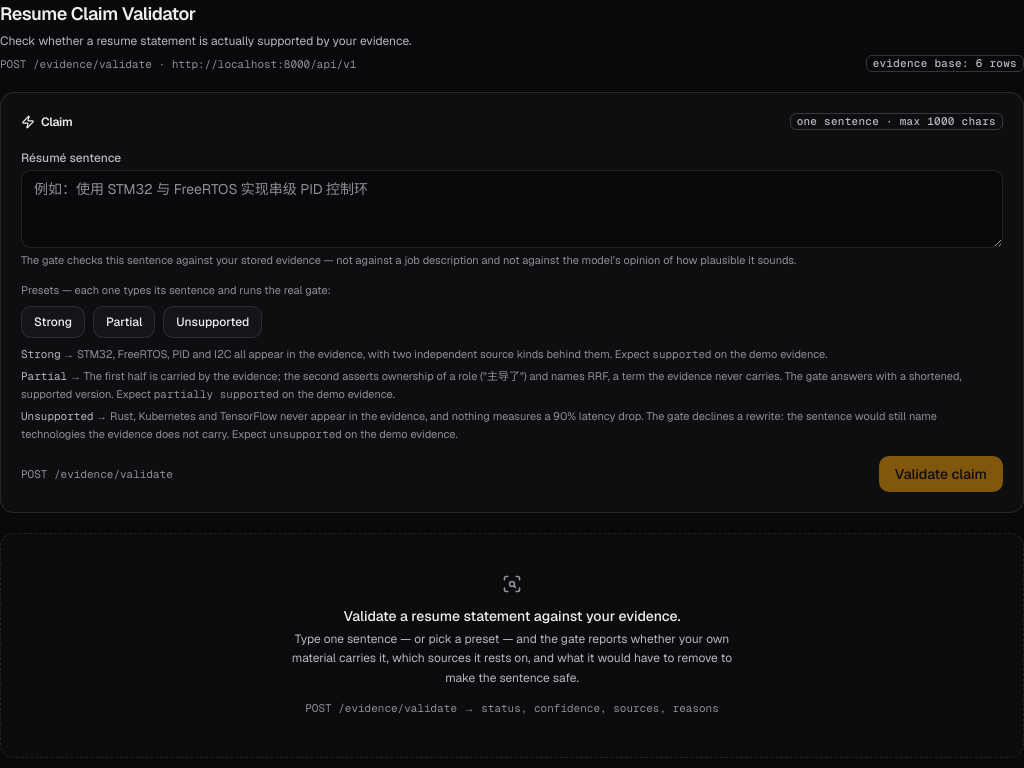
the claim validator page › asks the supported verdict’s own question in the rule panel
Type "使用 STM32 与 FreeRTOS 实现串级 PID 控制环" into the text box labelled "Résumé sentence" at (512, 209), box top-left (21, 170), bottom-right (1003, 248)
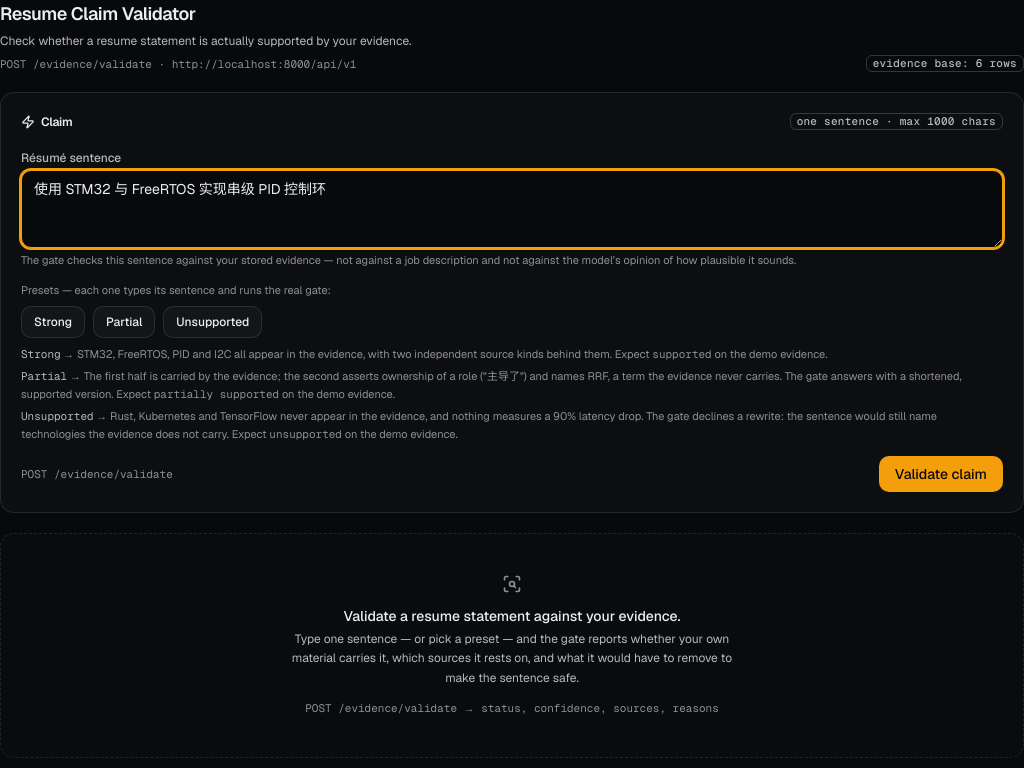
Click the button with test id "validate-claim" at (941, 474), box top-left (879, 456), bottom-right (1003, 492)
(page scrolled)
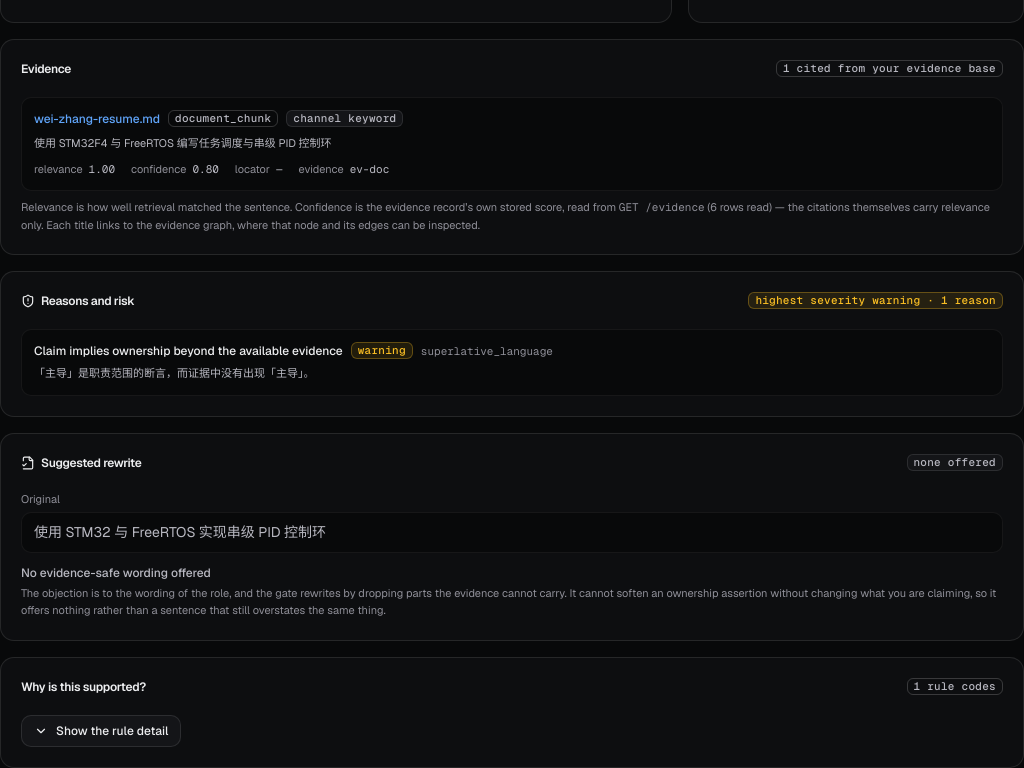
Expected: the heading "Why is this supported?" is shown, top-left (21, 679), bottom-right (146, 695)
